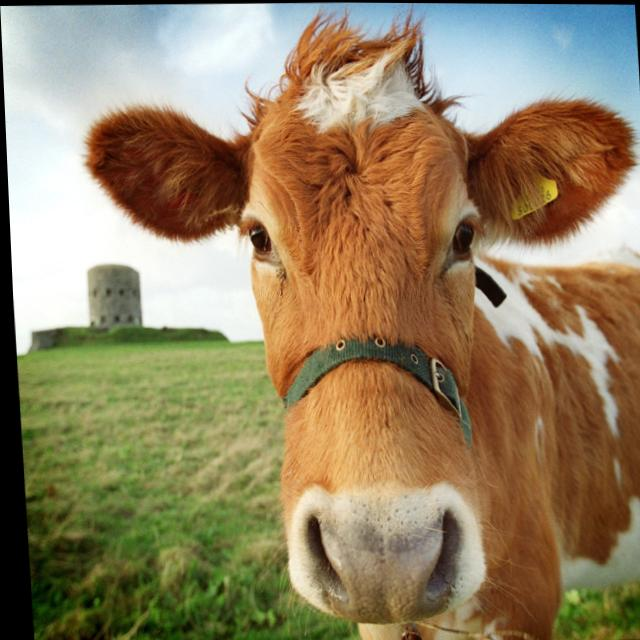cowFace: (70, 5, 640, 469)
